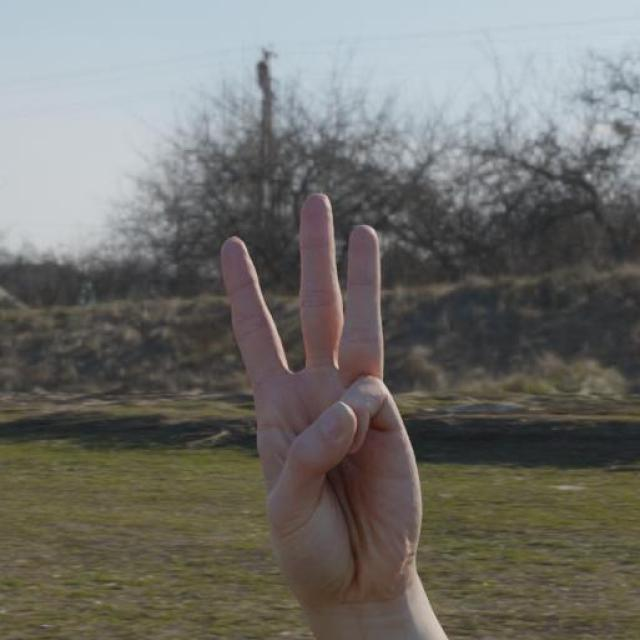W: (211, 174, 429, 640)
